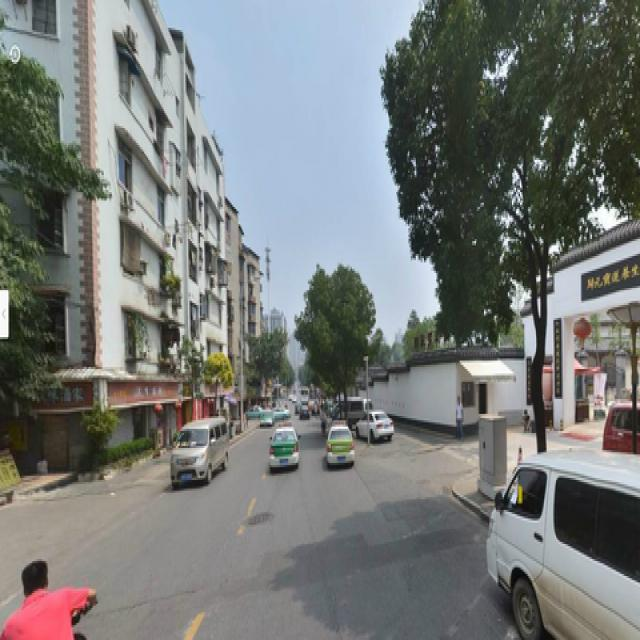cinn: (399, 11, 593, 484), (311, 273, 357, 425)
